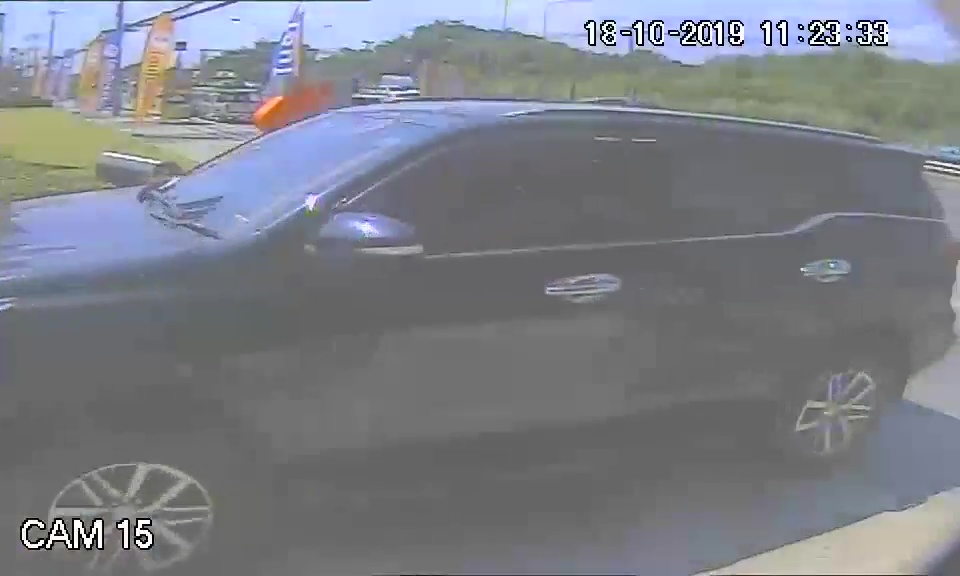pickup: (3, 101, 956, 521)
